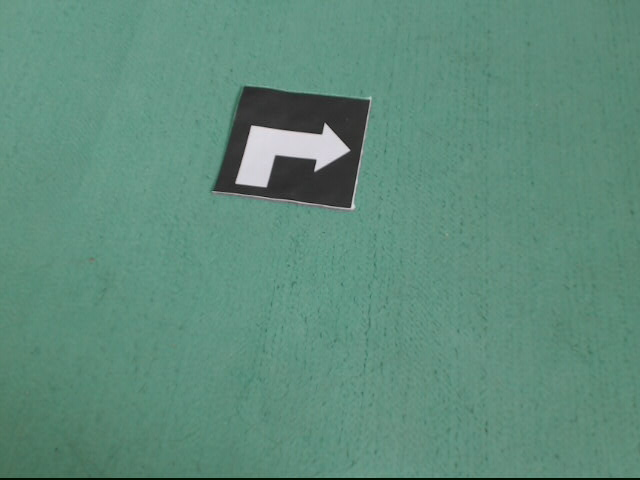right: (209, 86, 370, 212)
